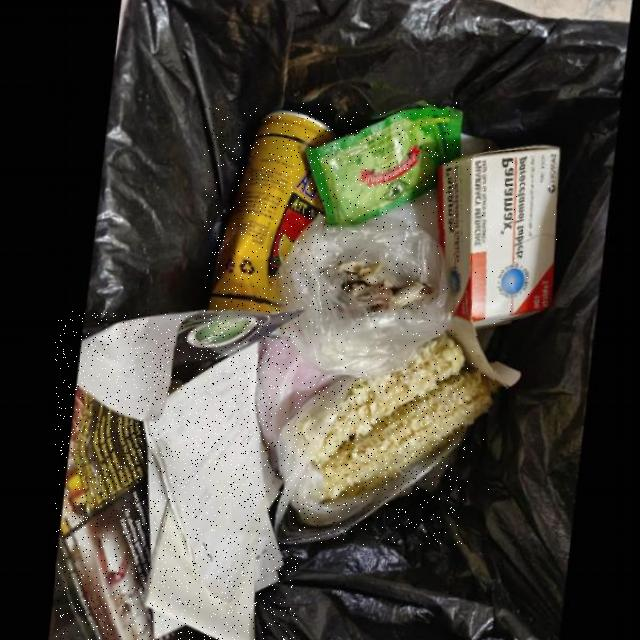biowaste: (311, 336, 495, 500), (336, 261, 429, 315)
metal: (205, 108, 330, 316)
paper: (55, 310, 298, 640), (434, 144, 557, 329)
plastic: (273, 375, 465, 544), (272, 216, 454, 379)
wrapper: (301, 102, 457, 229)
